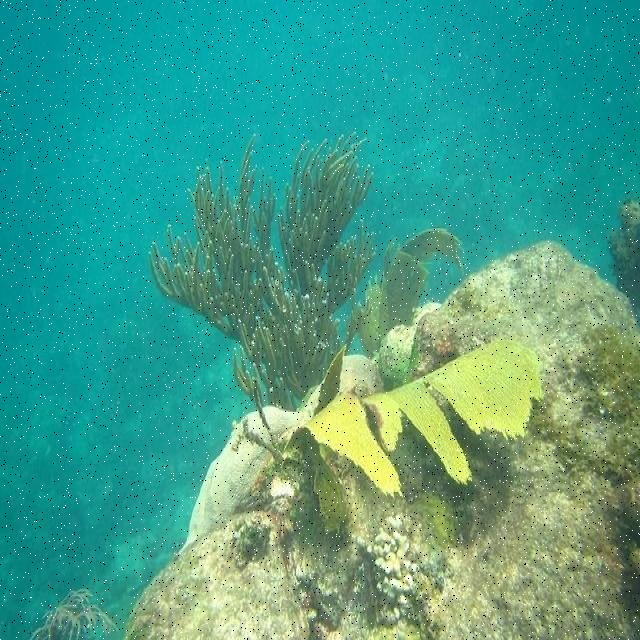aquatic plants: (145, 133, 373, 457), (274, 339, 546, 529), (359, 226, 466, 355)
sea-floor: (123, 246, 639, 639)
